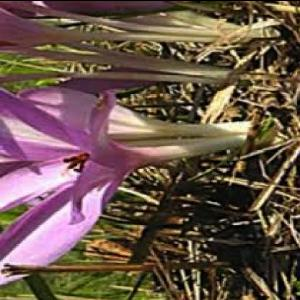Saffron: (0, 93, 143, 281)
